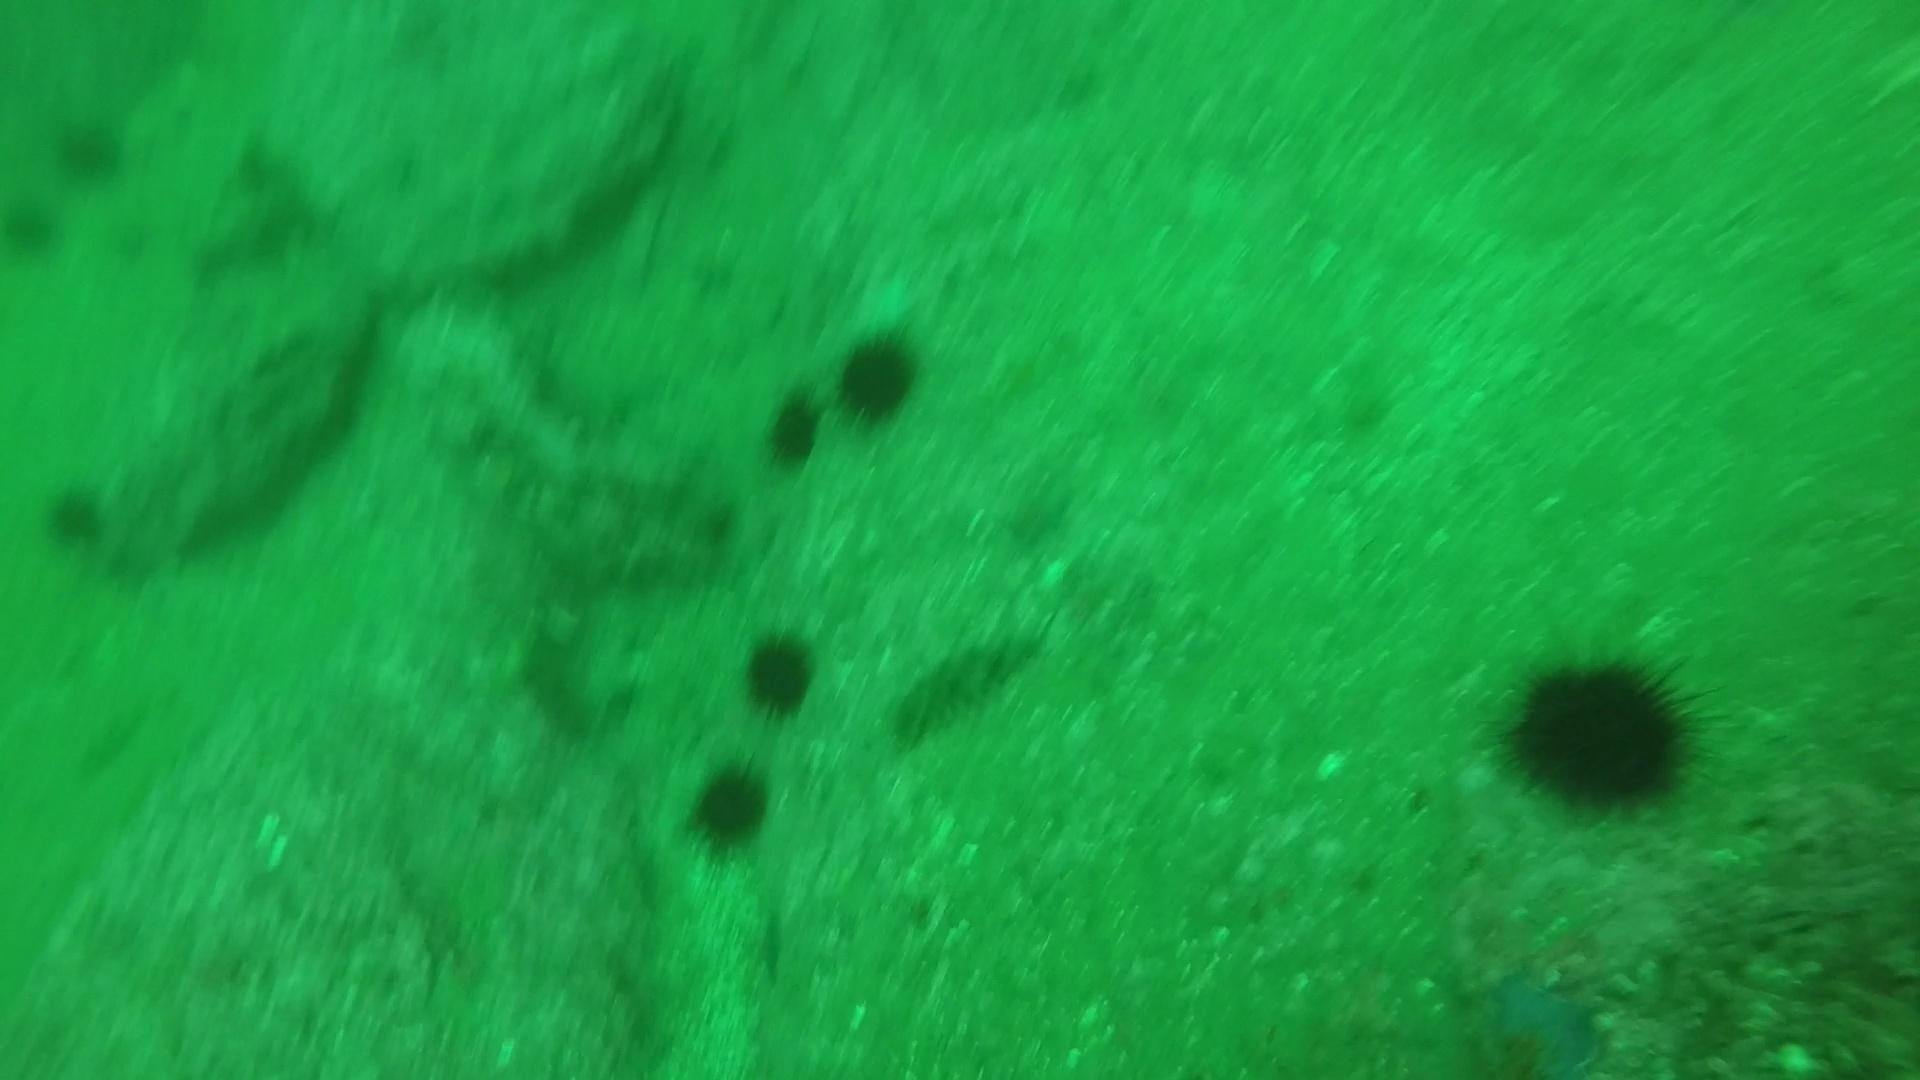echinus: (1491, 644, 1710, 818), (829, 326, 926, 429), (680, 756, 778, 856), (735, 625, 825, 723), (49, 109, 129, 185), (760, 386, 828, 472), (38, 477, 111, 549), (1, 190, 65, 265)
holothurian: (876, 618, 1062, 742)
starfish: (516, 607, 649, 738), (1476, 967, 1610, 1075)
